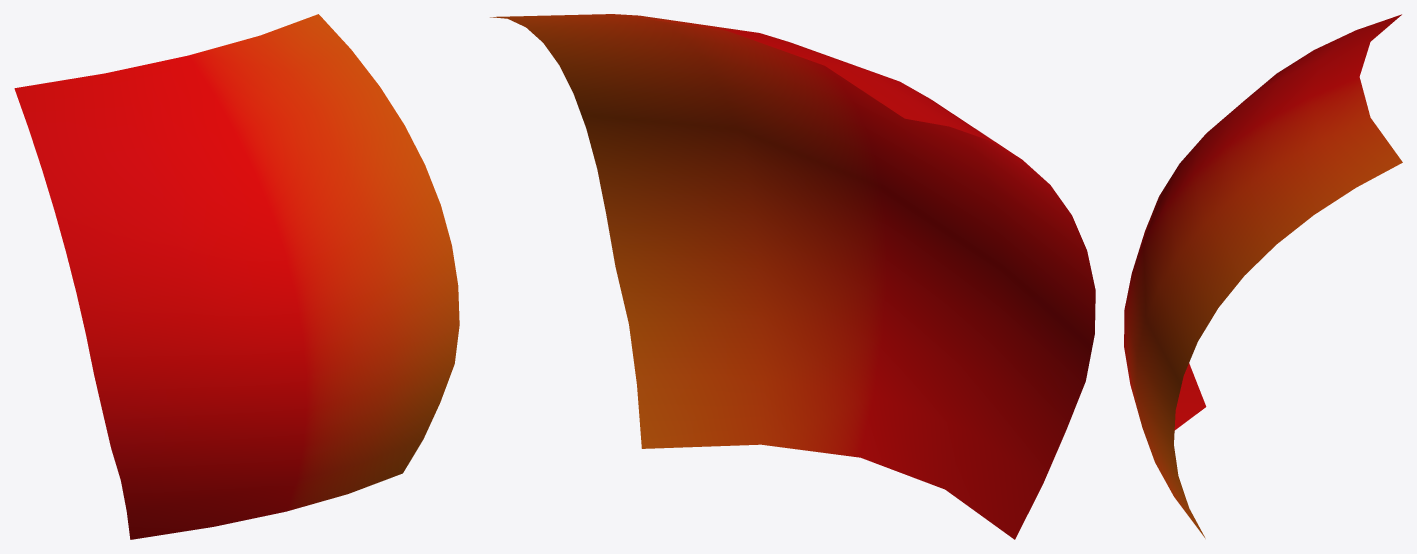
File: uni_third.fbx
3 renders of one model, left to right at view 1: azimuth 30°, elevation 25°; view 2: azimuth 150°, elevation 25°; view 3: azimuth 270°, elevation 25°, orthographic. The views are drawn at different scales.
Visible parts, largest first — view 1: uni_third; view 2: uni_third; view 3: uni_third.
Boxes of the visible parts, left/top/right/bottom form: uni_third: left=14, top=14, right=459, bottom=539; uni_third: left=490, top=14, right=1095, bottom=539; uni_third: left=1124, top=14, right=1402, bottom=538.
Bounding box in the file's own units: 9797 × 6464 × 10116.
